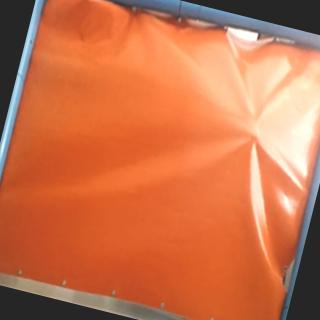Hit-hRxx: (248, 127, 264, 145)
